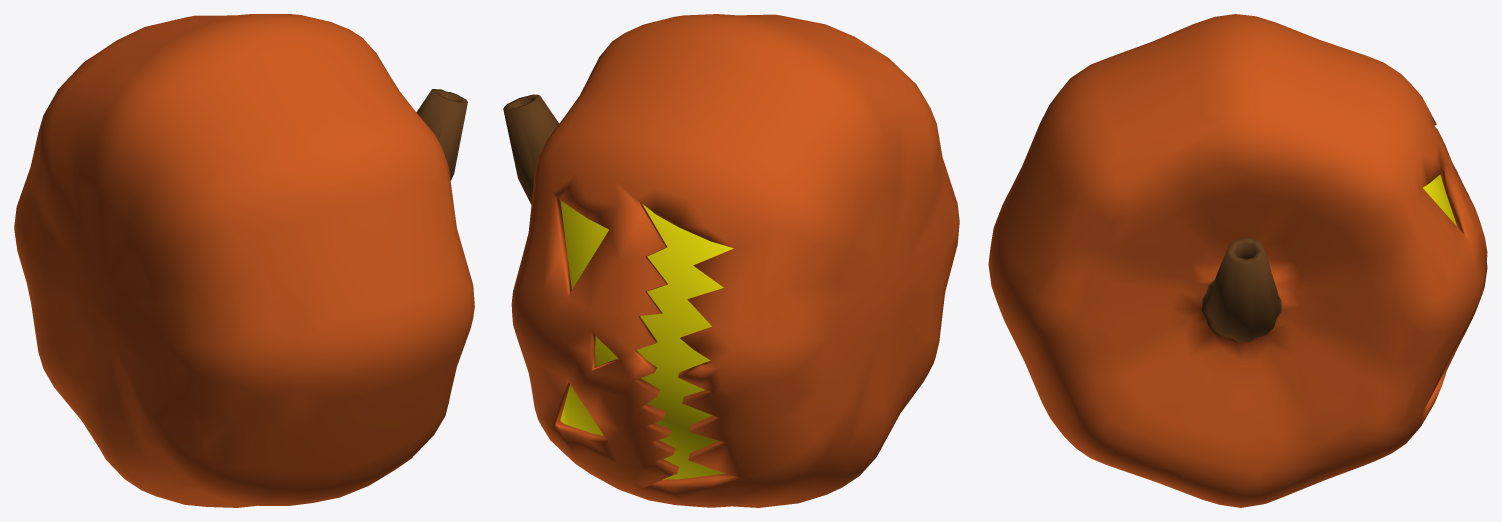
The model's file is JackoLantern.fbx.
The picture shows the model from 3 angles, left to right: view 1: azimuth 30°, elevation 25°; view 2: azimuth 150°, elevation 25°; view 3: azimuth 270°, elevation 25°; orthographic projection. The views are drawn at different scales.
Parts seen in each view (by area): view 1: Jack-o-Lantern; view 2: Jack-o-Lantern; view 3: Jack-o-Lantern.
Part boxes in pixels (box(x1,y1,x2,y2)): Jack-o-Lantern: box(14, 14, 474, 507); Jack-o-Lantern: box(503, 14, 959, 507); Jack-o-Lantern: box(988, 14, 1487, 507).
Size of the model in its own units: 0.2694 by 0.3198 by 0.3193.
